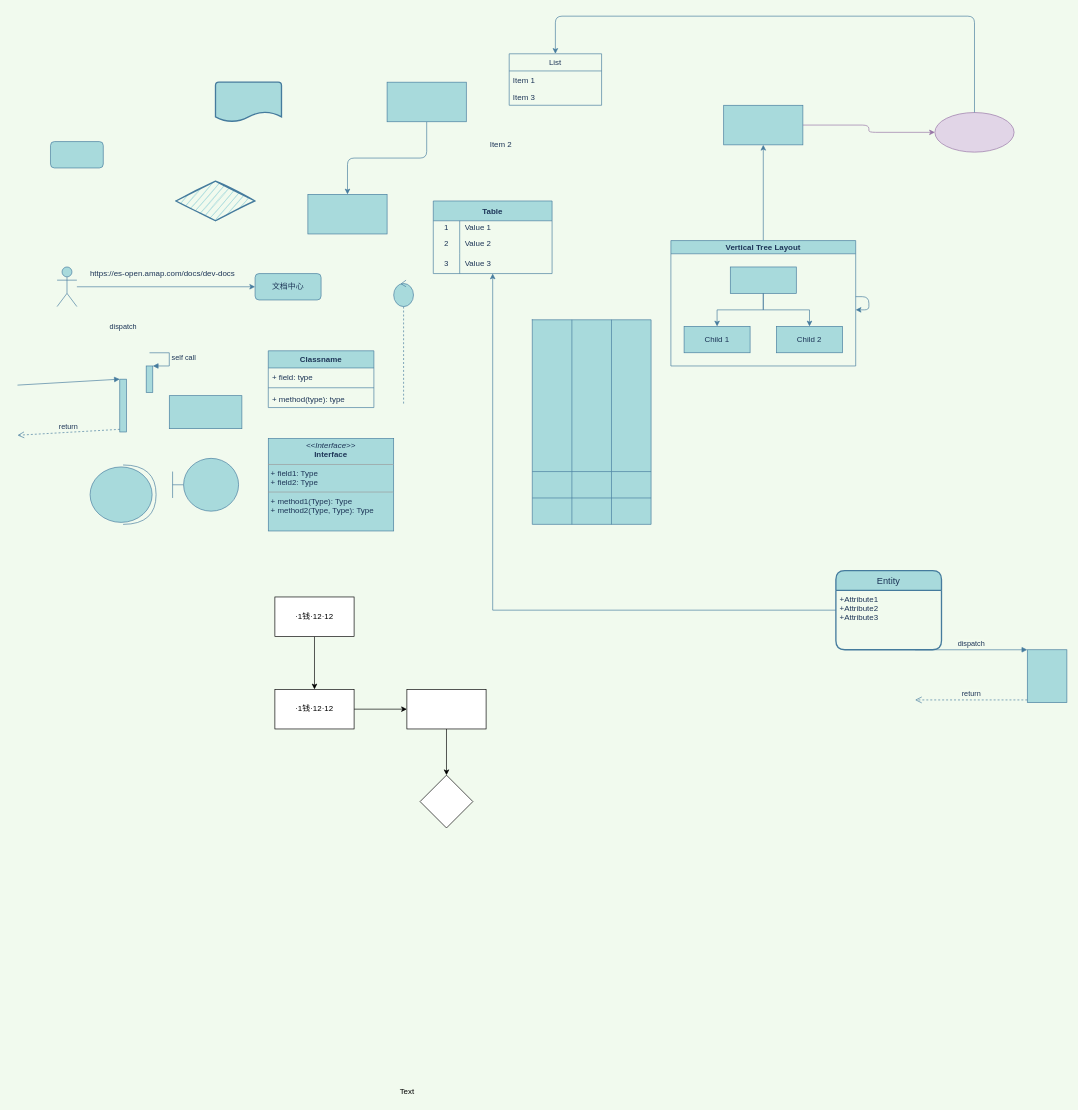
Image size: 1078x1110. Some labels were removed from this diagram. Here are the shapes that lost their labels. From the top down, the centre of each, then its label:
At (76,154): "MIS服务".
At (66,286): "Actor".
At (763,279): "Root".
At (205,412): "«interface» Name".
At (205,484): "Boundary Object".
At (446,801): "是打发打发的司法第三方 是打发是打发是打发".
